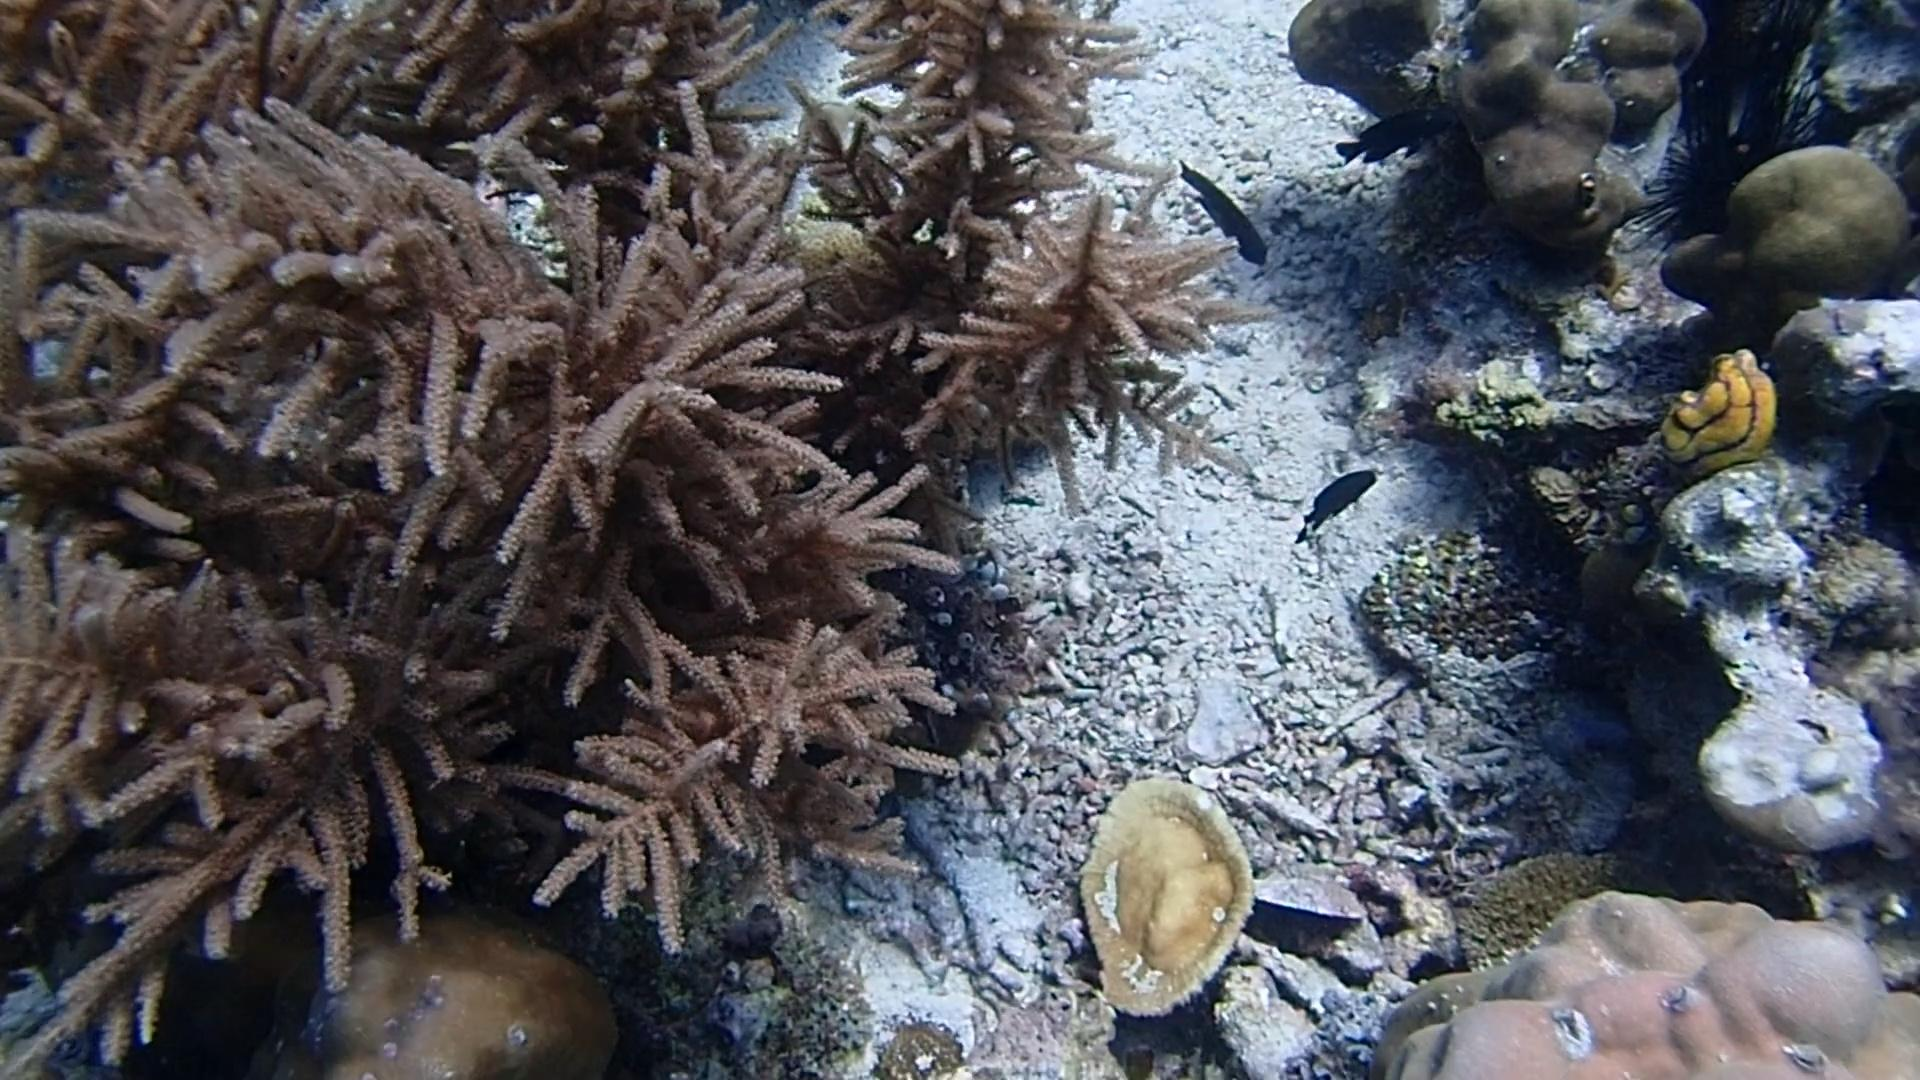Dark Fish: (1168, 152, 1273, 276), (1321, 100, 1437, 175), (1294, 456, 1383, 537)
